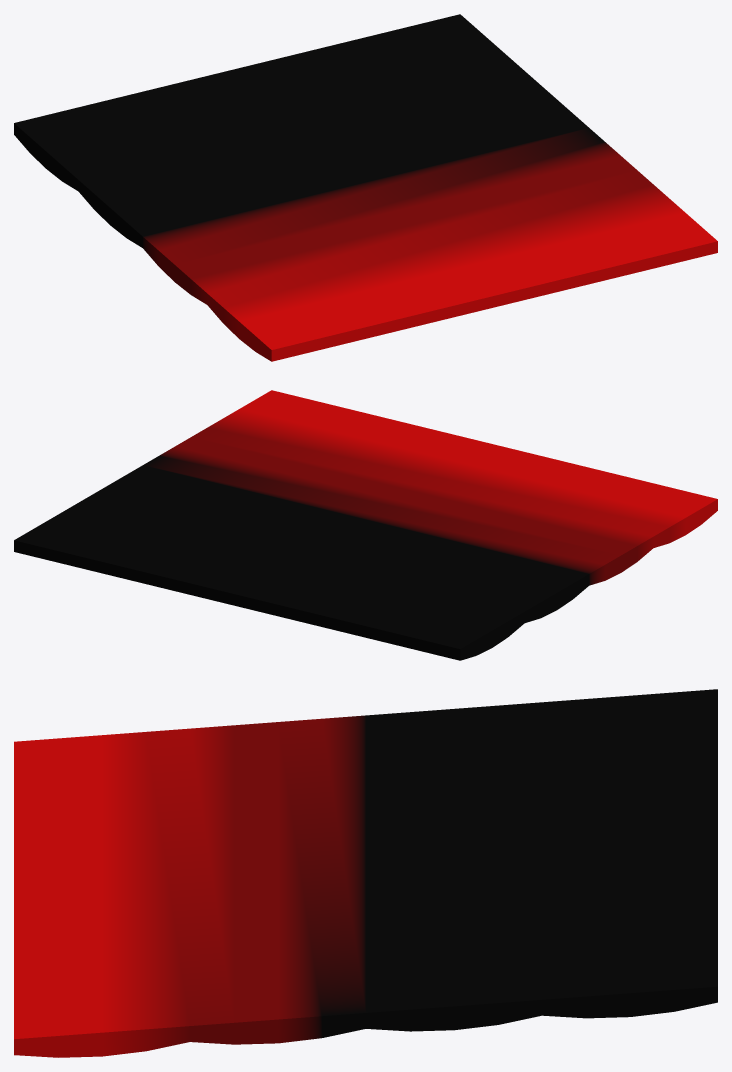
Rendered from SM_Ceiling_Hangar_600_B.fbx.
3 views of the same model, one above another, from view 1: azimuth 30°, elevation 25°; view 2: azimuth 150°, elevation 25°; view 3: azimuth 270°, elevation 25° (orthographic). The views are drawn at different scales.
Parts seen in each view (by area): view 1: SM_Ceiling_Hangar_600_B_LOD0; view 2: SM_Ceiling_Hangar_600_B_LOD0; view 3: SM_Ceiling_Hangar_600_B_LOD0.
Part boxes in pixels (x1,y1,x2,y2): SM_Ceiling_Hangar_600_B_LOD0: (14, 14, 717, 361); SM_Ceiling_Hangar_600_B_LOD0: (14, 390, 717, 660); SM_Ceiling_Hangar_600_B_LOD0: (14, 689, 717, 1057).
Bounding box in the file's own units: 600 × 600 × 66.92.
